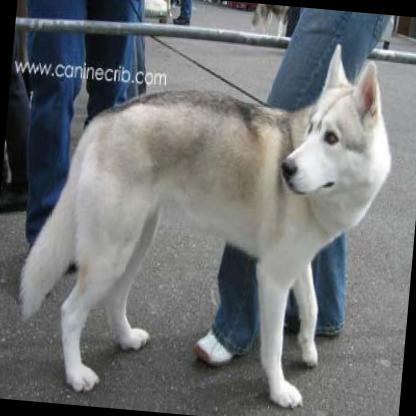Siberian_husky: (8, 13, 401, 414)
